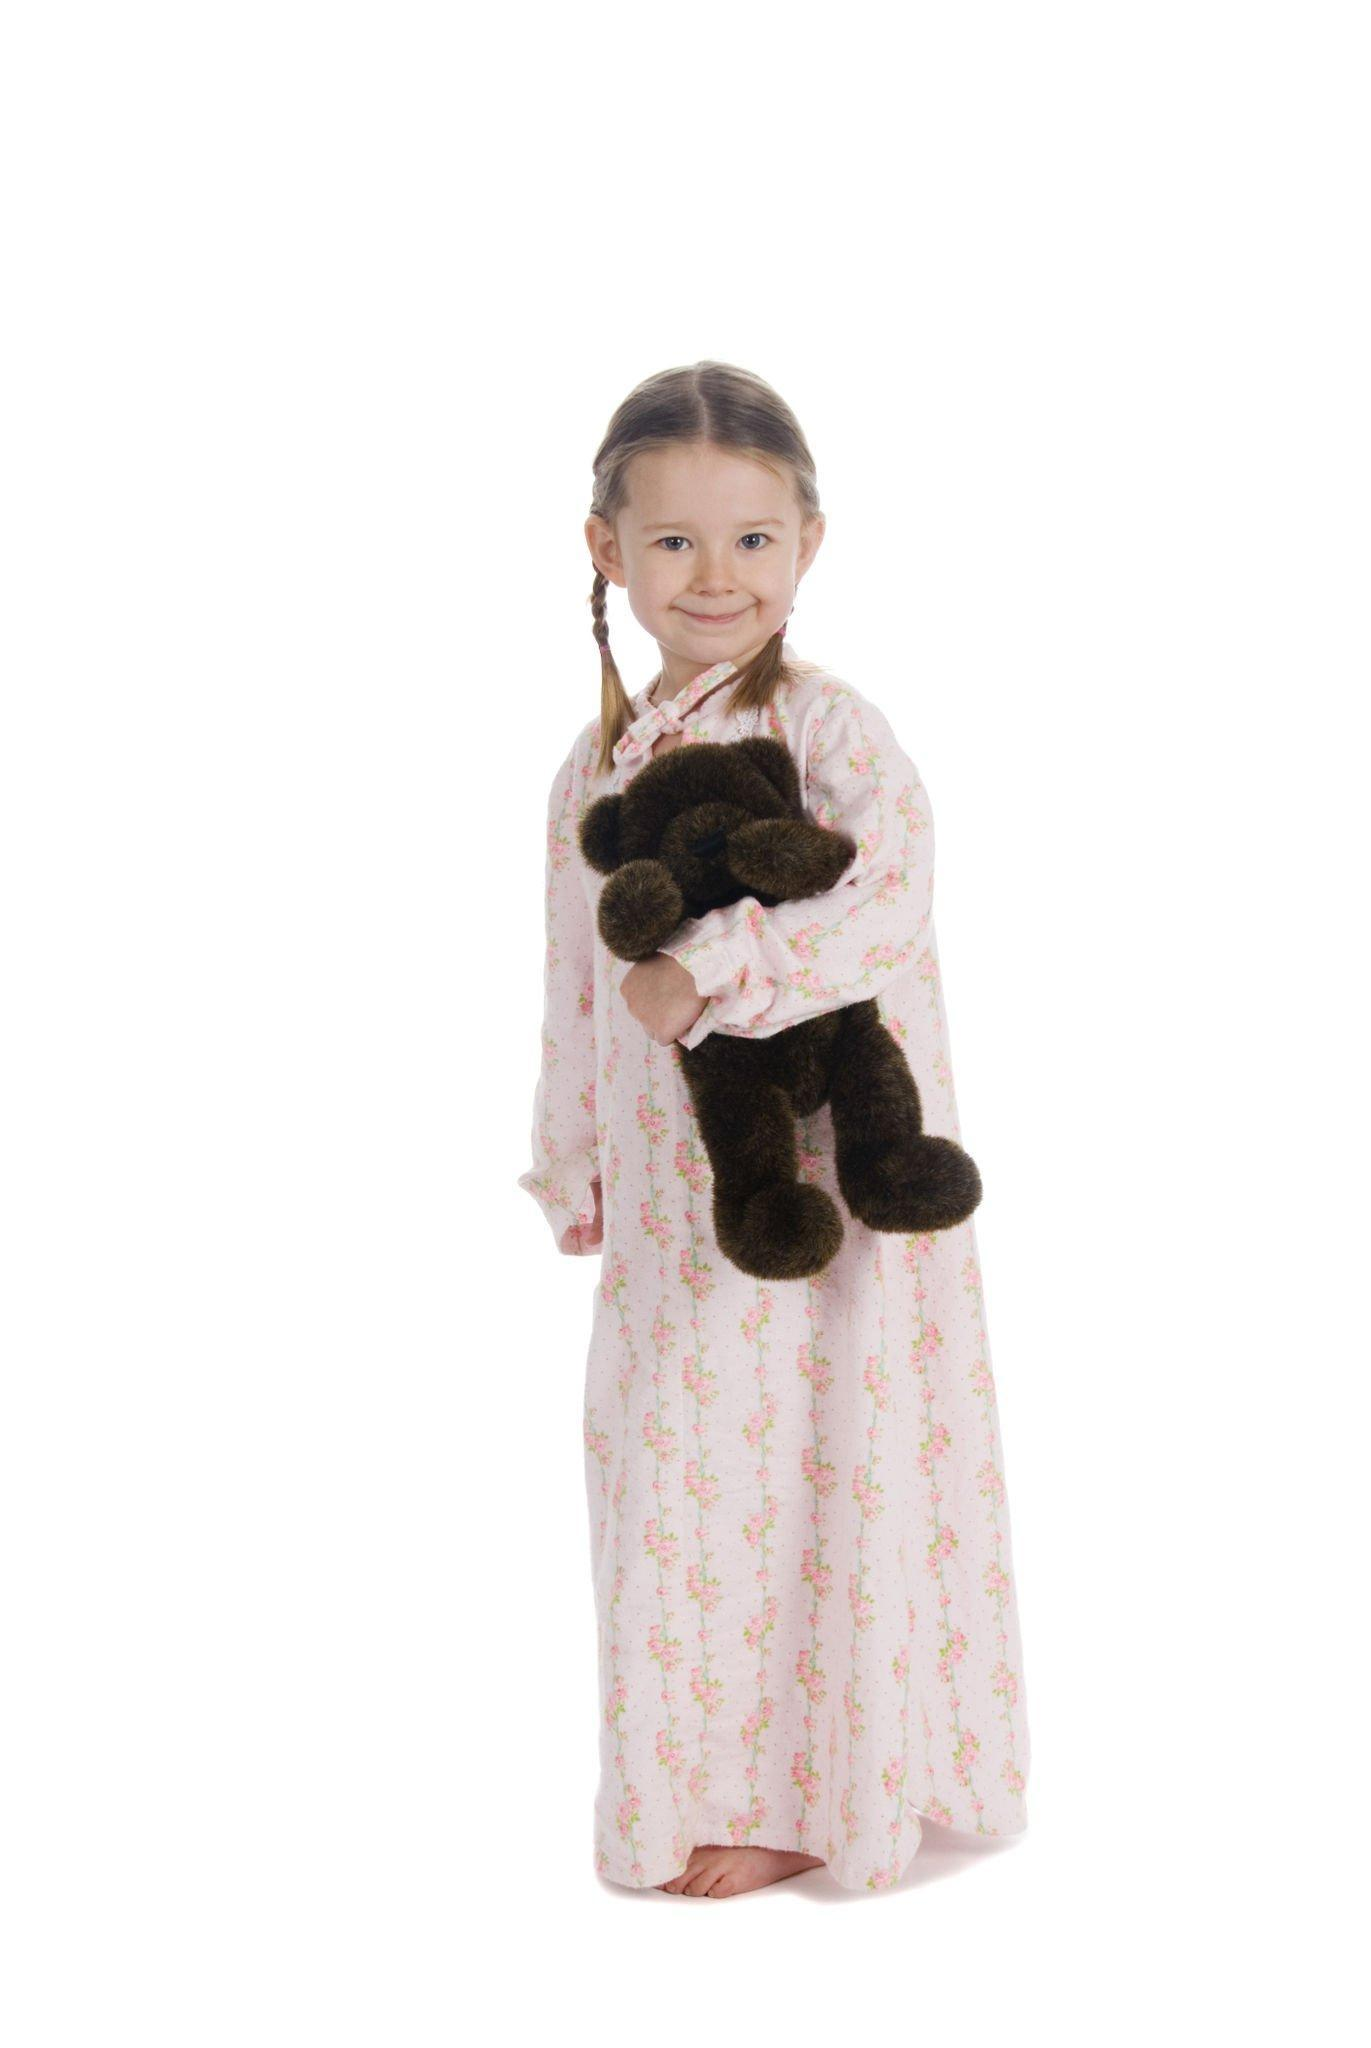Healthy: (574, 321, 828, 705)
